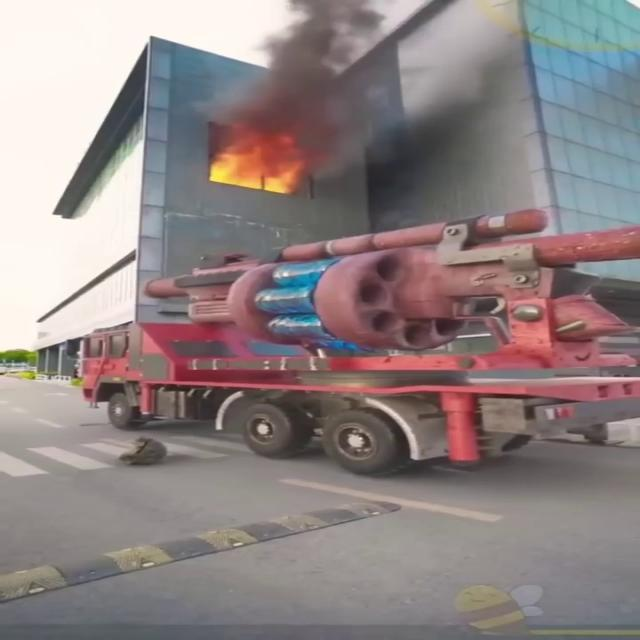Fire: (203, 130, 304, 196)
Smoke: (228, 0, 556, 201)
